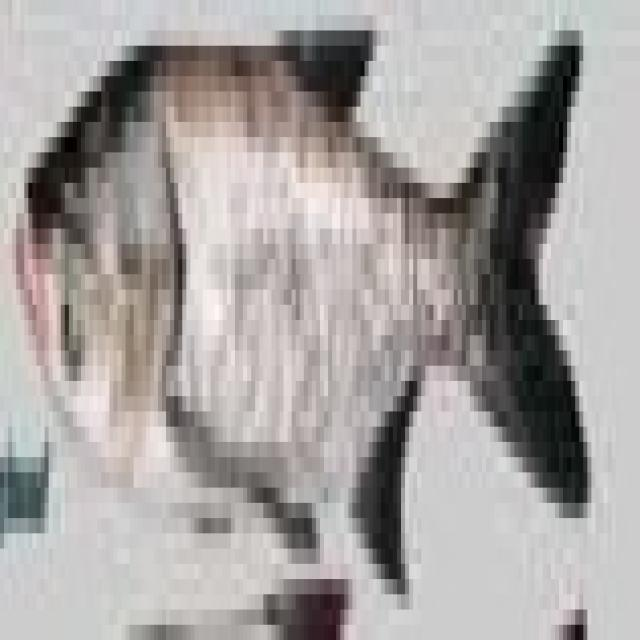Big-Head-Carp: (12, 8, 626, 621)
